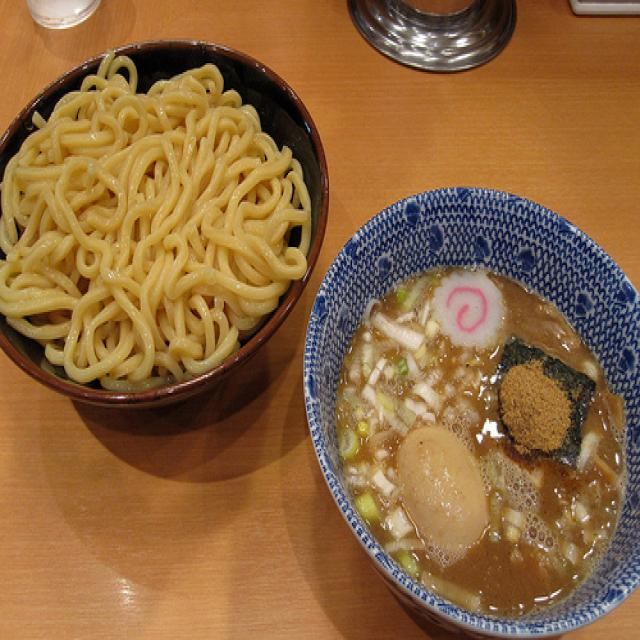面条主食: (0, 61, 626, 613)
